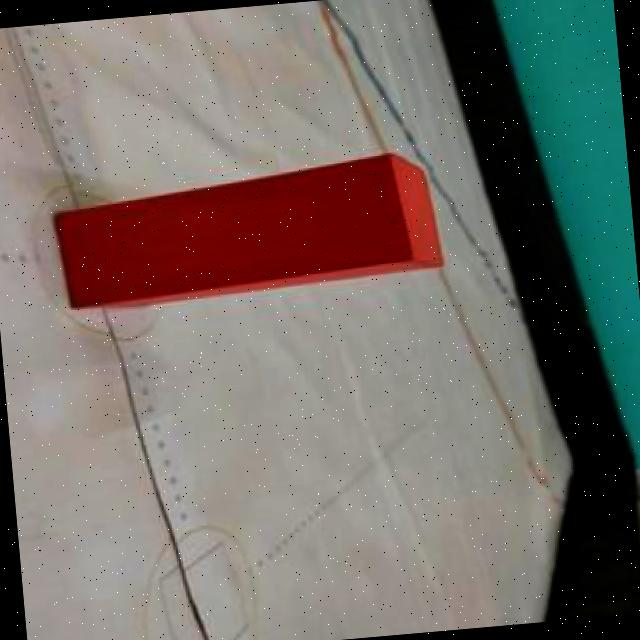redbox: (46, 162, 444, 308)
